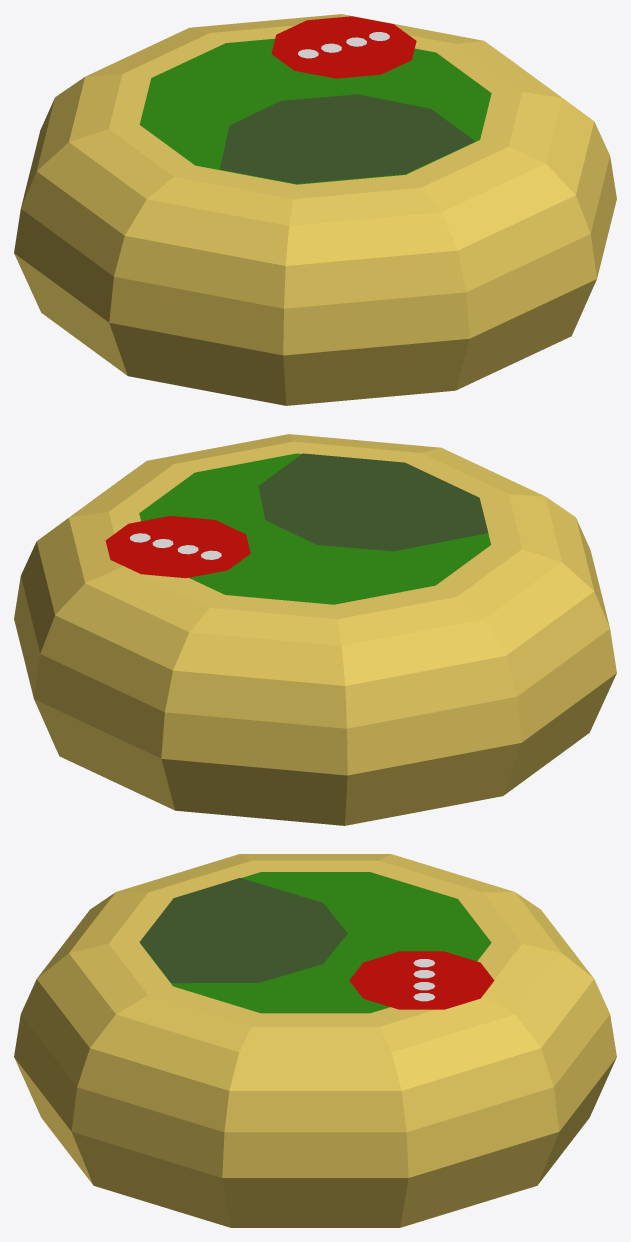
Rendered from Ma_Cheese_1.fbx.
3 renders of one model, top to bottom at view 1: azimuth 30°, elevation 25°; view 2: azimuth 150°, elevation 25°; view 3: azimuth 270°, elevation 25°, orthographic. The views are drawn at different scales.
Visible parts, largest first — view 1: Ma_Cheese_1; view 2: Ma_Cheese_1; view 3: Ma_Cheese_1.
Part boxes in pixels (x1,y1,x2,y2): Ma_Cheese_1: [14, 14, 616, 405]; Ma_Cheese_1: [14, 434, 616, 825]; Ma_Cheese_1: [14, 854, 616, 1227].
Size of the model in its own units: 130 by 137 by 50.84.
